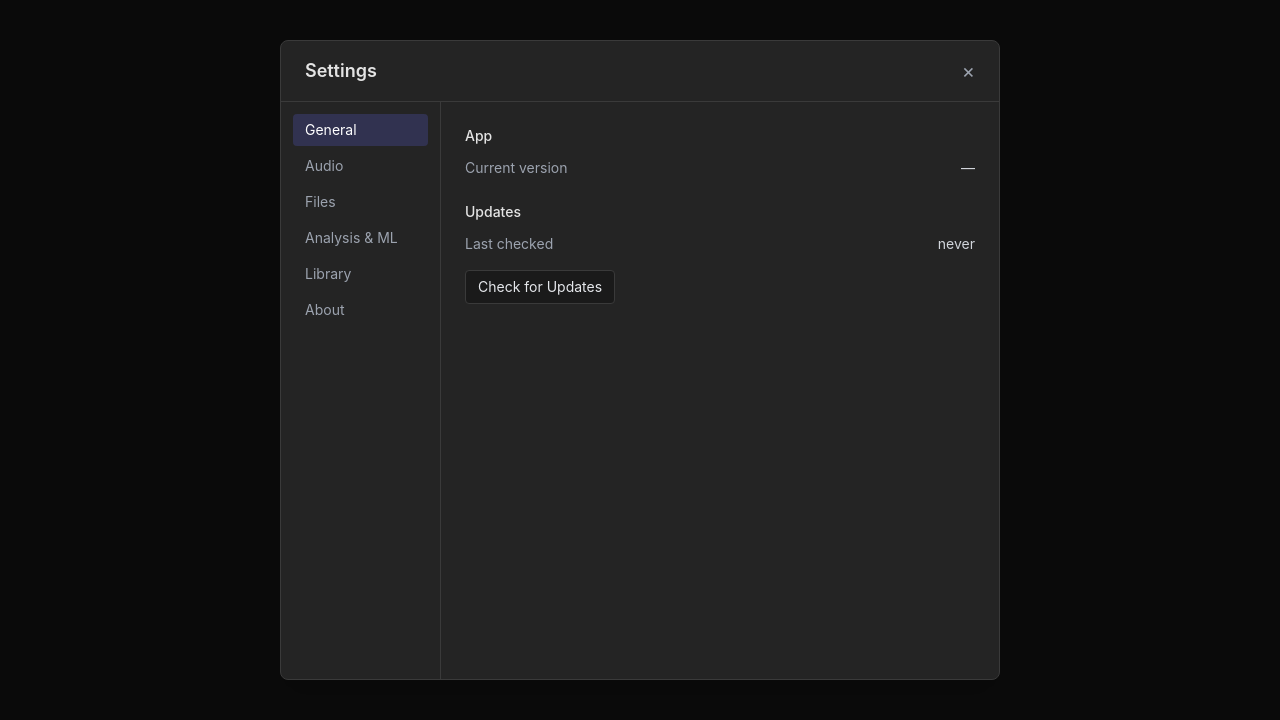
Test: SettingsDialog tabs › switches to Analysis & ML tab and renders the ML features section
Click the tab with test id "settings-tab-analysis-ml" at (360, 238), box [293,222,428,254]
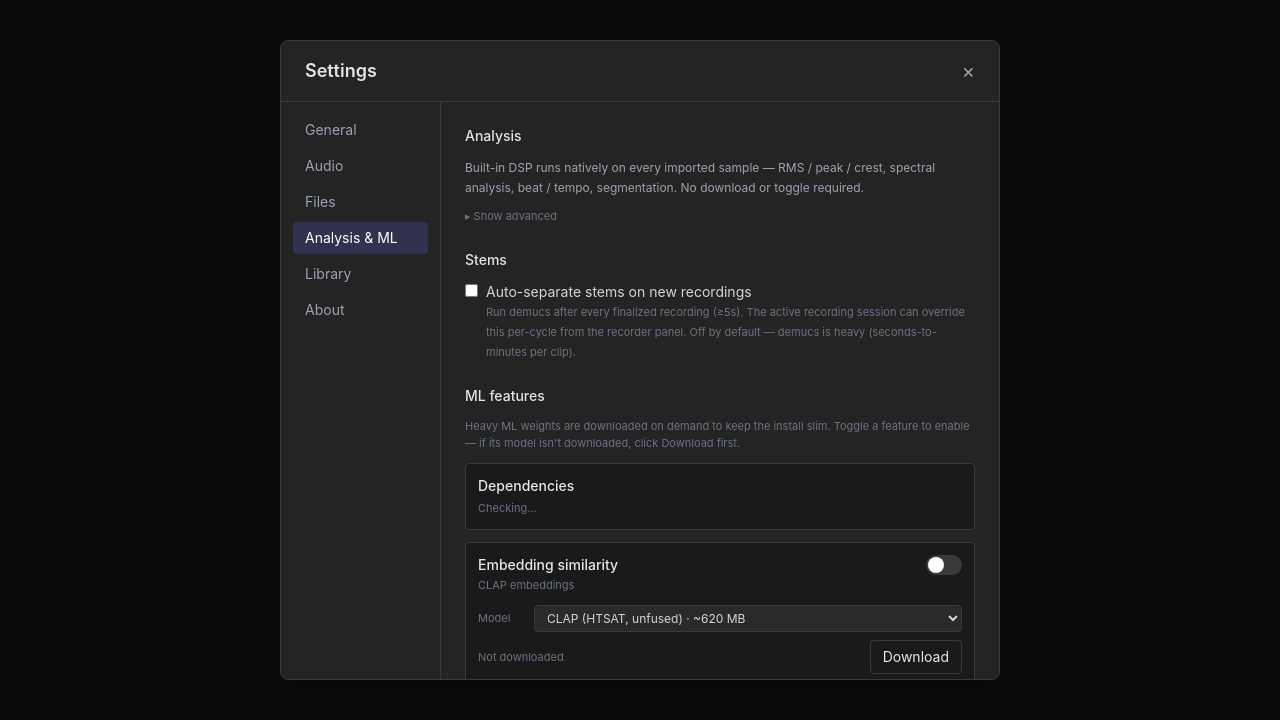
Now the element with test id "ml-features-section" is shown, box [465,418,975,679]
Now the element with test id "ml-feature-embedding_similarity" is shown, box [465,542,975,679]
Now the button with test id "ml-model-download-laion/clap-htsat-unfused" is shown, box [870,640,962,674]
Click the button "▸ Show advanced" at (511, 216), box [465,206,557,226]
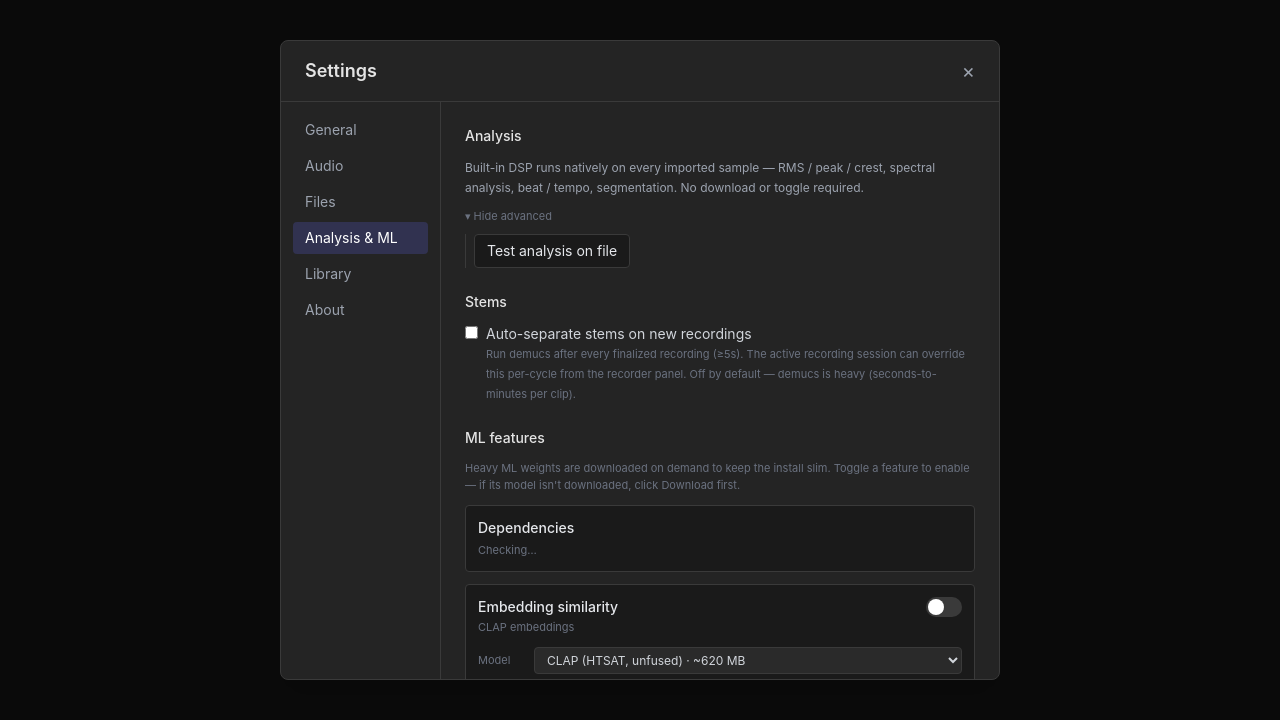
Now the button with test id "analysis-test-file" is shown, box [474,234,630,268]
